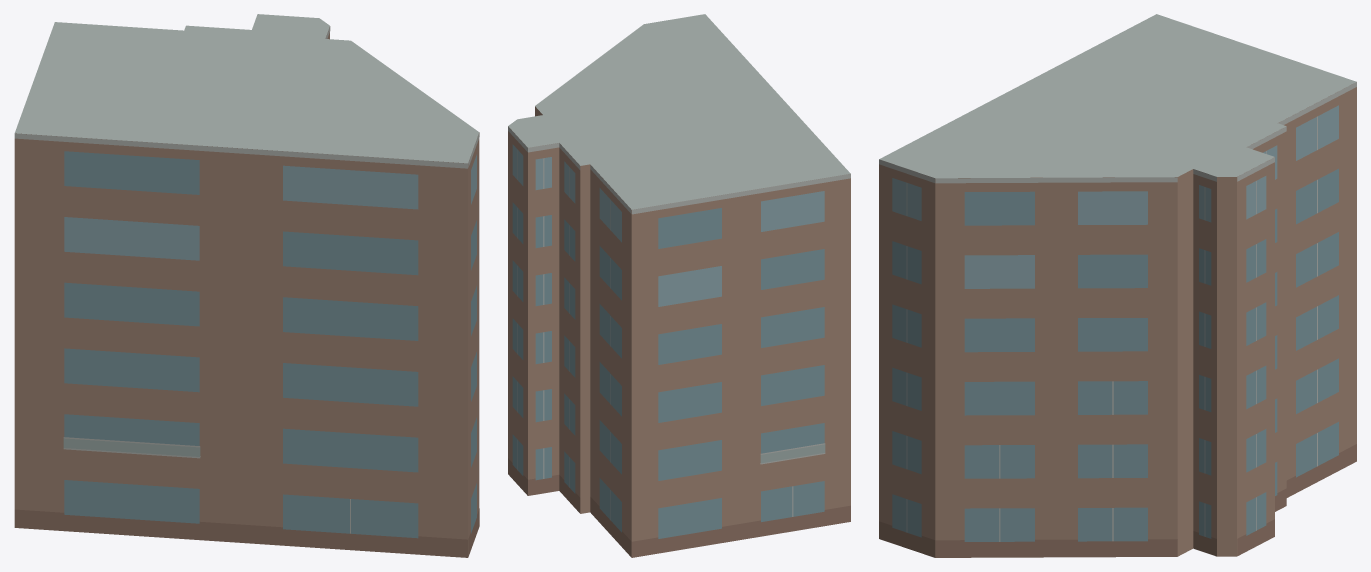
Rendered from survey-upis-33001190.glb.
3 views of the same model, side by side, from view 1: azimuth 30°, elevation 25°; view 2: azimuth 150°, elevation 25°; view 3: azimuth 270°, elevation 25° (orthographic). The views are drawn at different scales.
Parts seen in each view (by area): view 1: survey-upis-33001190.tmp; view 2: survey-upis-33001190.tmp; view 3: survey-upis-33001190.tmp.
Part boxes in pixels (x1,y1,x2,y2): survey-upis-33001190.tmp: (14,14,479,557); survey-upis-33001190.tmp: (508,14,850,557); survey-upis-33001190.tmp: (879,14,1356,557).
Bounding box in the file's own units: 16.99 × 18.3 × 20.88.
